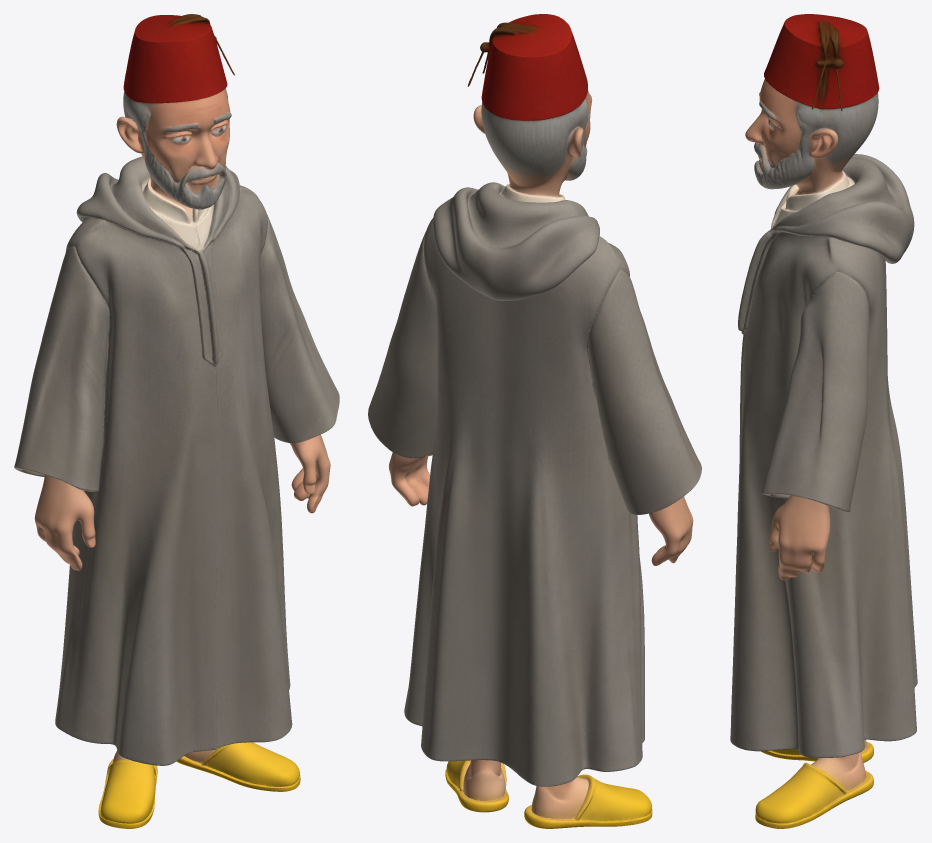
File: man1__base_basic_pbr.glb
The picture shows the model from 3 angles, left to right: view 1: azimuth 30°, elevation 25°; view 2: azimuth 150°, elevation 25°; view 3: azimuth 270°, elevation 25°; orthographic projection. The views are drawn at different scales.
Parts seen in each view (by area): view 1: model; view 2: model; view 3: model.
Part boxes in pixels (x1,y1,x2,y2): model: (14, 14, 339, 828); model: (368, 14, 701, 828); model: (730, 14, 917, 828).
Bounding box in the file's own units: 0.8269 × 1.9 × 0.4257.
Materials: 1 (1 with a texture image).
